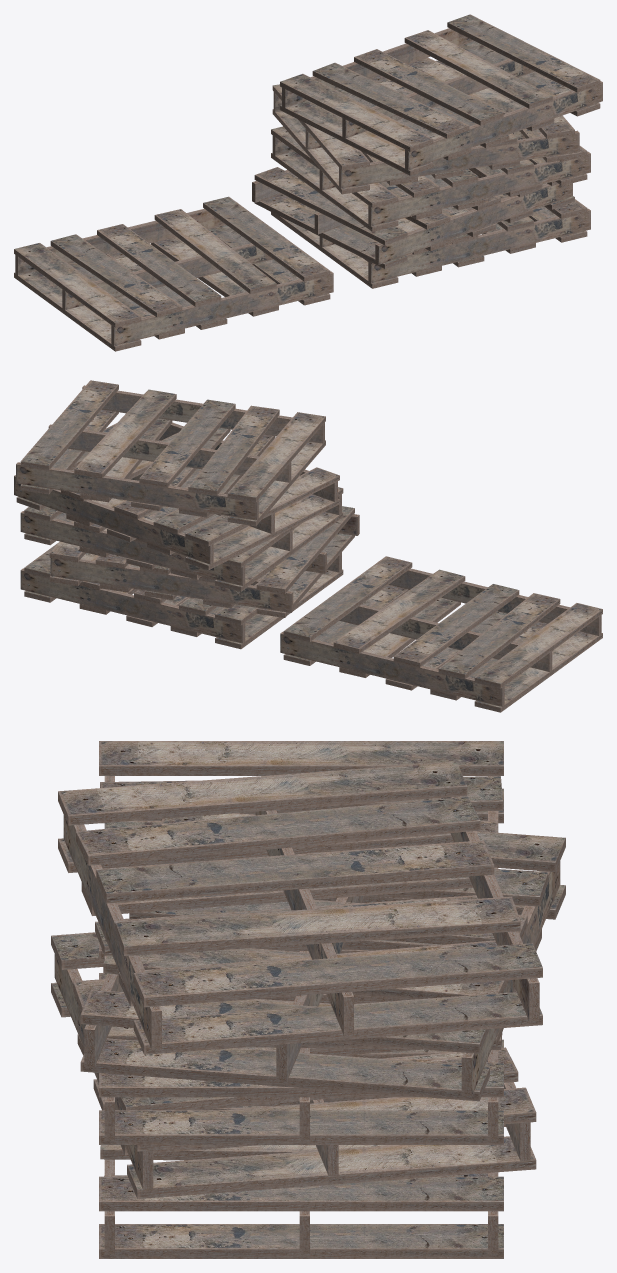
Rendered from Palet_v1.FBX.
3 views of the same model, one above another, from view 1: azimuth 30°, elevation 25°; view 2: azimuth 150°, elevation 25°; view 3: azimuth 270°, elevation 25° (orthographic). The views are drawn at different scales.
Parts seen in each view (by area): view 1: Palet_v1_set, Palet_v1_single; view 2: Palet_v1_set, Palet_v1_single; view 3: Palet_v1_set, Palet_v1_single.
Part boxes in pixels (<box>): Palet_v1_set: <box>252,14,602,288</box>; Palet_v1_single: <box>14,196,333,351</box>; Palet_v1_set: <box>14,380,359,649</box>; Palet_v1_single: <box>280,556,602,712</box>; Palet_v1_set: <box>51,761,565,1258</box>; Palet_v1_single: <box>99,741,503,979</box>.
Size of the model in its own units: 3.98 by 1.08 by 1.77.
